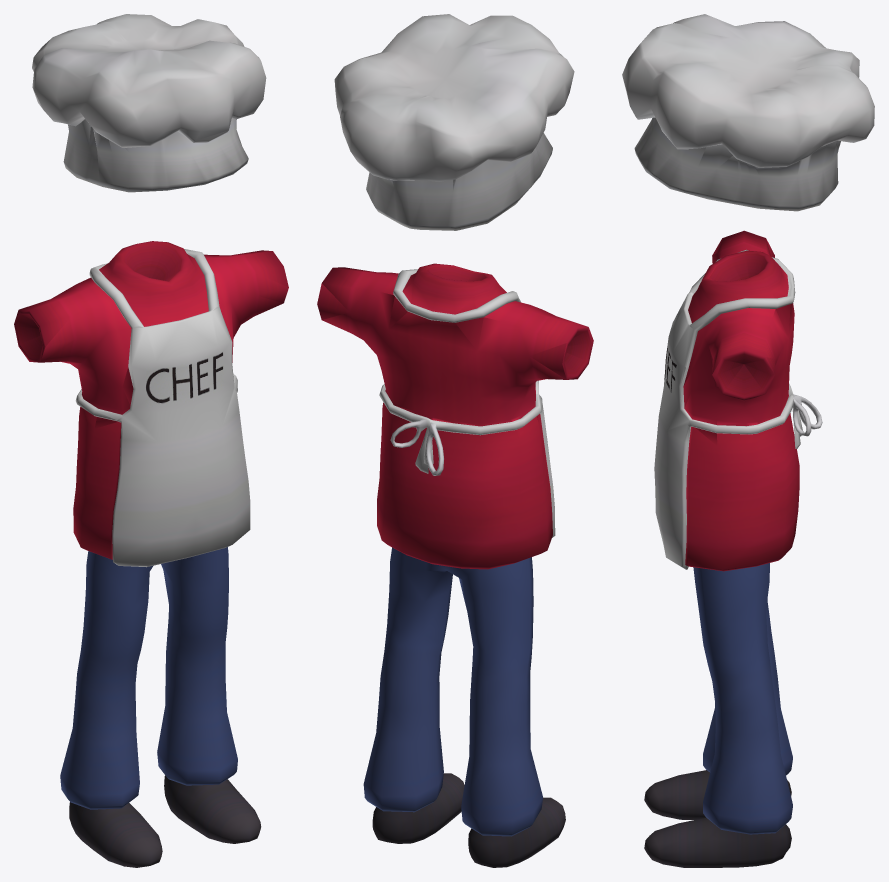
File: chef.obj
3 renders of one model, left to right at view 1: azimuth 30°, elevation 25°; view 2: azimuth 150°, elevation 25°; view 3: azimuth 270°, elevation 25°, orthographic.
Parts seen in each view (by area): view 1: Mesh_0029.rip, Mesh_0030.rip; view 2: Mesh_0029.rip; view 3: Mesh_0029.rip, Mesh_0030.rip.
Boxes of the visible parts, bbox=[...] form: Mesh_0029.rip: bbox=[14, 14, 288, 867]; Mesh_0030.rip: bbox=[131, 342, 234, 411]; Mesh_0029.rip: bbox=[317, 14, 593, 867]; Mesh_0029.rip: bbox=[622, 14, 874, 867]; Mesh_0030.rip: bbox=[664, 337, 683, 409].
Bounding box in the file's own units: 4.61 × 14.25 × 4.13.
Materials: 2 (2 with a texture image).
